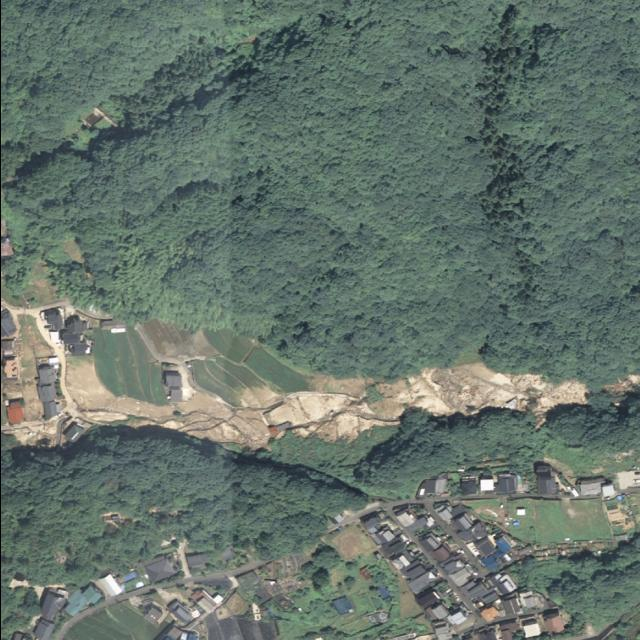landslide: (63, 360, 586, 451)
